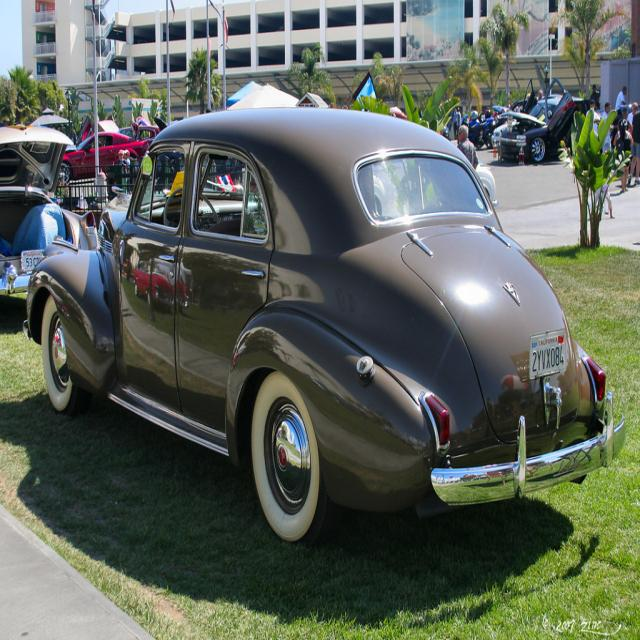car: (22, 104, 627, 542)
